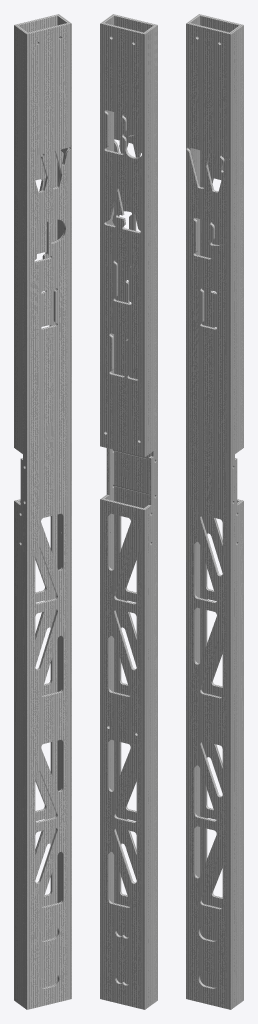
File: rear_strut.dae
3 views of the same model, side by side, from view 1: azimuth 30°, elevation 25°; view 2: azimuth 150°, elevation 25°; view 3: azimuth 330°, elevation 25° (orthographic).
Parts seen in each view (by area): view 1: _3DGeom_381_Defintion (×6); view 2: _3DGeom_381_Defintion (×10); view 3: _3DGeom_381_Defintion (×6).
Boxes of the visible parts, x1,y1,x2,y2 form: _3DGeom_381_Defintion (×6): (14,14,71,1009); _3DGeom_381_Defintion (×10): (100,14,157,1009); _3DGeom_381_Defintion (×6): (186,14,243,1009).
Bounding box in the file's own units: 2 × 1 × 41.52.
1 material, 1 textured.
